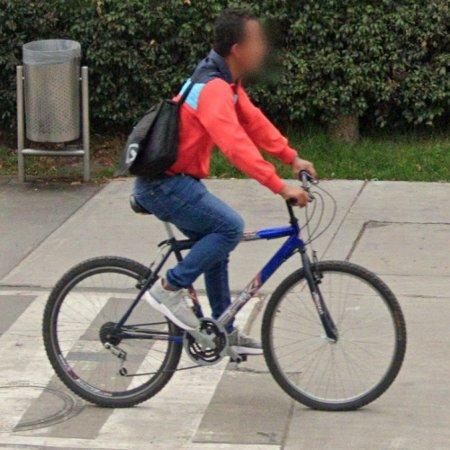bicycles: (43, 203, 408, 411)
